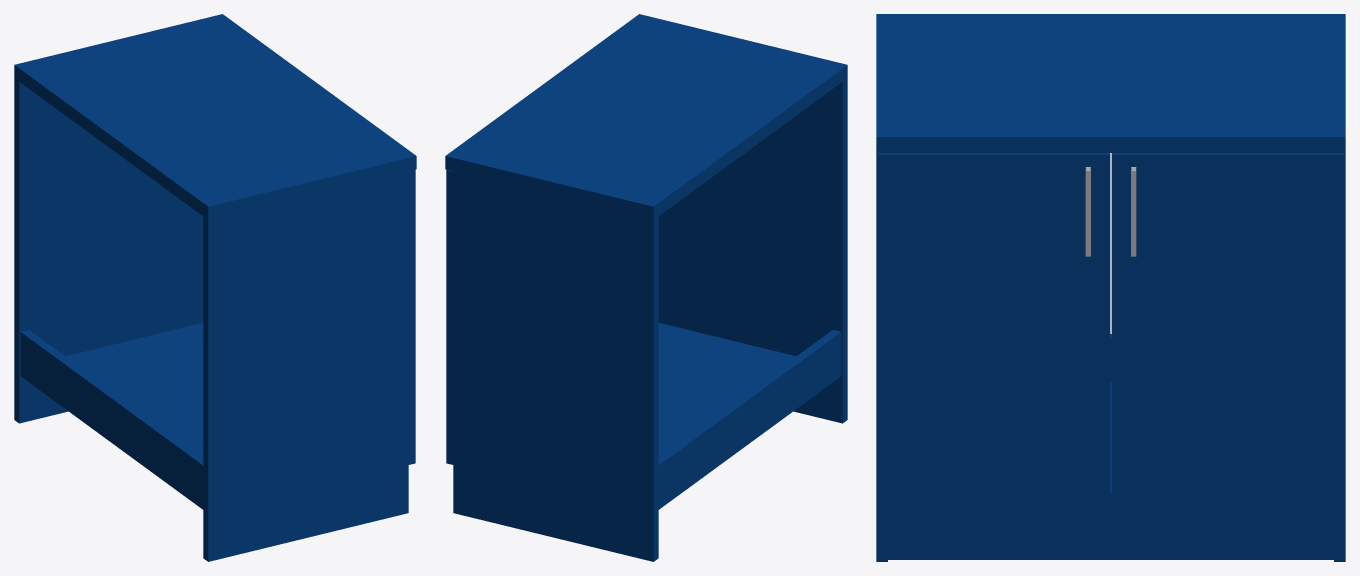
Rendered from short_cabinet.dae.
3 views of the same model, side by side, from view 1: azimuth 30°, elevation 25°; view 2: azimuth 150°, elevation 25°; view 3: azimuth 270°, elevation 25° (orthographic). The views are drawn at different scales.
Parts seen in each view (by area): view 1: Cube; view 2: Cube; view 3: Cube.
Boxes of the visible parts, x1,y1,x2,y2 form: Cube: (14, 14, 416, 561); Cube: (445, 14, 847, 561); Cube: (876, 14, 1345, 561).
Size of the model in its own units: 0.507 by 0.792 by 0.8.
